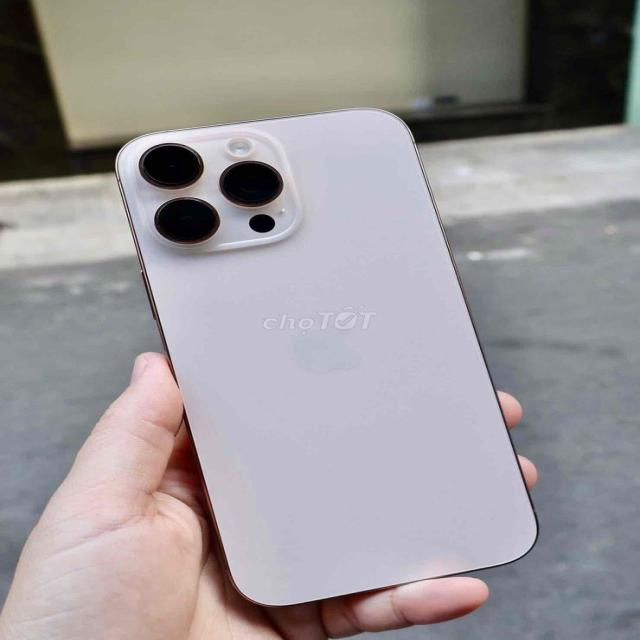gen_16: (118, 109, 536, 607)
